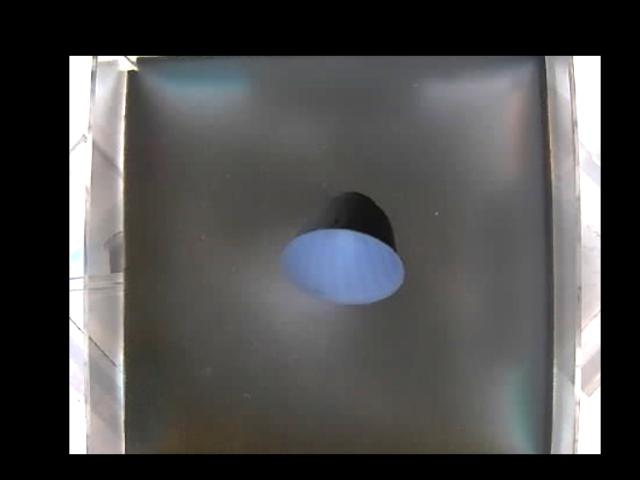Cup: (280, 192, 402, 306)
